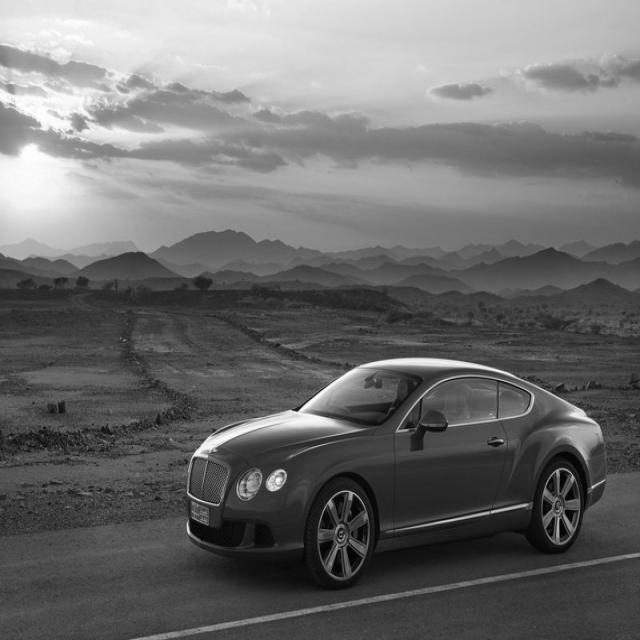car: (185, 355, 607, 590)
plat_license: (188, 501, 210, 526)
